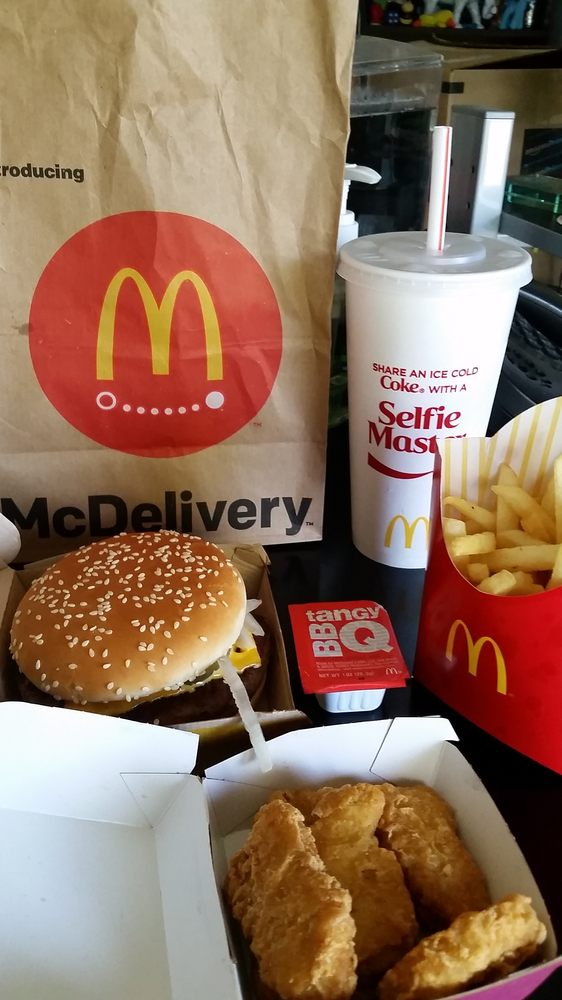mcdonalds: (81, 254, 239, 391), (435, 611, 522, 706)
